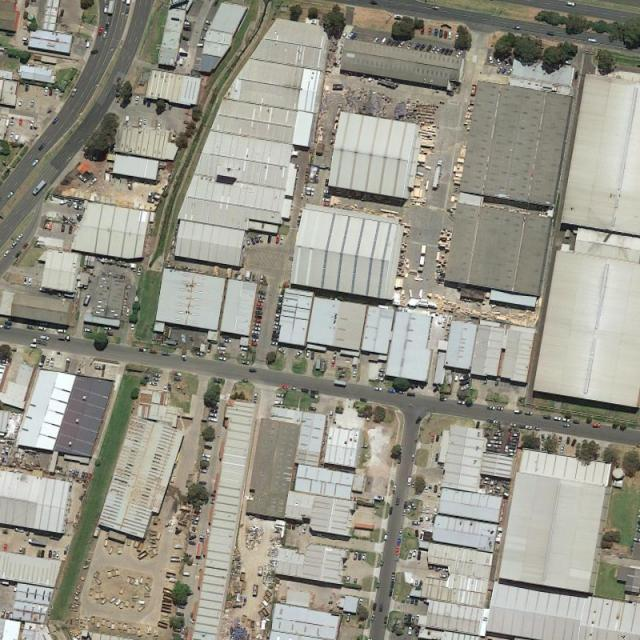vehicle: (32, 180, 45, 195), (83, 294, 90, 306), (6, 191, 15, 199), (58, 335, 70, 341), (378, 603, 385, 613), (374, 495, 385, 501), (495, 65, 503, 73), (71, 87, 78, 96), (414, 42, 421, 51), (40, 334, 50, 340), (488, 54, 494, 64), (275, 234, 281, 244), (266, 234, 272, 244), (251, 236, 257, 246), (208, 417, 218, 423), (38, 143, 46, 150), (32, 159, 39, 167), (17, 234, 24, 242), (3, 250, 10, 258), (15, 250, 22, 258), (350, 33, 358, 40), (390, 38, 397, 46), (398, 40, 406, 47), (419, 42, 426, 50), (443, 47, 450, 55), (295, 350, 302, 358), (279, 385, 290, 390), (373, 386, 384, 391), (102, 31, 108, 40), (57, 328, 66, 334), (83, 327, 92, 333), (134, 95, 140, 104), (457, 400, 466, 406), (395, 546, 401, 555), (372, 602, 378, 611), (43, 86, 48, 96), (10, 131, 15, 141), (18, 117, 23, 127), (305, 186, 315, 191), (148, 349, 158, 354), (353, 368, 358, 378), (407, 476, 412, 486), (424, 483, 429, 493), (394, 40, 401, 47), (431, 46, 438, 53), (434, 47, 441, 54), (506, 69, 513, 76), (279, 347, 286, 354), (414, 417, 421, 424), (52, 118, 58, 126), (10, 242, 18, 248), (26, 324, 34, 330), (406, 42, 414, 48), (456, 50, 462, 58), (174, 376, 182, 382), (218, 355, 226, 361), (301, 387, 309, 393), (410, 452, 416, 460), (413, 520, 421, 526), (497, 406, 505, 412), (526, 424, 534, 430), (105, 21, 110, 30), (23, 277, 28, 286), (3, 325, 12, 330), (19, 545, 24, 554), (3, 542, 8, 551), (50, 358, 55, 367), (102, 326, 111, 331), (130, 322, 135, 331), (138, 347, 147, 352), (443, 30, 448, 39), (306, 190, 315, 195), (279, 236, 284, 245), (210, 409, 219, 414), (310, 389, 319, 394), (411, 501, 416, 510), (406, 505, 411, 514), (398, 528, 403, 537), (358, 598, 363, 607), (346, 613, 351, 622), (559, 445, 564, 454), (534, 426, 543, 431), (431, 6, 442, 10), (22, 242, 28, 249), (348, 31, 355, 37), (426, 44, 432, 51), (253, 235, 259, 242), (153, 376, 160, 382), (98, 26, 103, 34), (54, 88, 59, 96), (30, 120, 34, 130), (15, 134, 20, 142), (30, 343, 38, 348), (1, 608, 5, 618), (157, 121, 162, 129), (427, 26, 432, 34), (434, 27, 438, 37), (439, 30, 444, 38), (497, 56, 502, 64), (258, 234, 263, 242), (246, 237, 251, 245), (153, 372, 161, 377), (162, 351, 170, 356), (258, 294, 266, 299), (254, 314, 262, 319), (272, 325, 280, 330), (242, 360, 250, 365), (210, 413, 218, 418), (274, 399, 282, 404), (329, 410, 334, 418), (202, 453, 210, 458), (198, 468, 206, 473), (387, 388, 395, 393), (435, 434, 440, 442), (393, 484, 397, 494), (396, 496, 400, 506), (384, 533, 389, 541), (397, 538, 402, 546), (412, 549, 417, 557), (439, 574, 447, 579), (434, 566, 442, 571), (388, 588, 393, 596), (408, 627, 413, 635), (525, 410, 533, 415), (562, 417, 570, 422), (492, 419, 500, 424), (510, 422, 518, 427), (10, 117, 14, 126), (56, 550, 60, 559), (52, 550, 56, 559), (6, 610, 10, 619), (448, 50, 454, 56), (512, 25, 521, 29), (588, 38, 597, 42), (163, 383, 167, 392), (217, 350, 226, 354), (217, 346, 226, 350), (260, 273, 264, 282), (248, 368, 257, 372), (306, 350, 310, 359), (254, 393, 258, 402), (430, 434, 434, 443), (354, 551, 358, 560), (358, 553, 362, 562), (346, 575, 350, 584), (404, 613, 408, 622), (487, 406, 496, 410), (514, 410, 523, 414), (30, 101, 35, 108), (381, 37, 386, 44), (386, 38, 391, 45), (440, 48, 445, 55), (501, 67, 506, 74), (324, 189, 331, 194), (322, 202, 329, 207), (290, 386, 297, 391), (442, 566, 449, 571), (428, 565, 435, 570), (371, 614, 376, 621), (593, 423, 600, 428), (18, 99, 22, 107), (28, 278, 32, 286), (38, 326, 46, 330), (95, 366, 103, 370), (205, 20, 213, 24), (143, 118, 147, 126), (421, 26, 425, 34), (448, 31, 452, 39), (567, 2, 575, 6), (322, 198, 330, 202), (168, 383, 172, 391), (195, 351, 203, 355), (224, 338, 232, 342), (258, 290, 266, 294), (253, 326, 261, 330), (250, 338, 258, 342), (242, 378, 250, 382), (276, 394, 284, 398), (202, 458, 210, 462), (434, 485, 438, 493), (402, 509, 406, 517), (426, 505, 430, 513), (434, 506, 438, 514), (406, 595, 410, 603), (416, 614, 420, 622), (553, 417, 561, 421), (185, 21, 191, 26), (341, 32, 346, 38), (68, 468, 72, 475), (71, 469, 75, 476), (374, 36, 378, 43), (323, 194, 330, 198), (256, 302, 263, 306), (256, 306, 263, 310), (255, 310, 262, 314), (254, 318, 261, 322), (252, 330, 259, 334), (379, 373, 386, 377), (398, 390, 405, 394), (391, 572, 395, 579), (390, 581, 394, 588), (414, 579, 418, 586), (412, 614, 415, 623), (82, 470, 85, 478), (200, 36, 206, 40), (139, 118, 142, 126), (258, 298, 264, 302), (254, 322, 260, 326), (270, 342, 278, 345), (274, 322, 280, 326), (241, 347, 249, 350), (332, 359, 335, 367), (378, 378, 384, 382), (409, 551, 412, 559), (362, 553, 366, 559), (408, 614, 411, 622), (22, 38, 29, 41), (75, 470, 78, 477), (440, 398, 447, 401)
